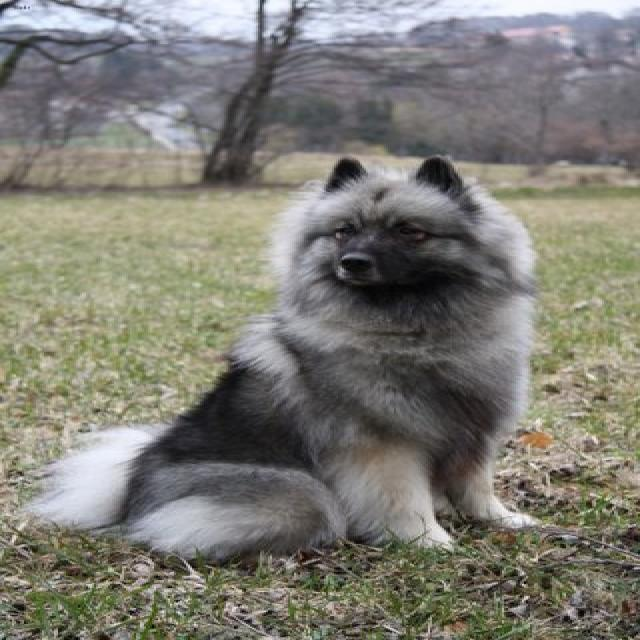dog-keeshond: (8, 144, 568, 576)
